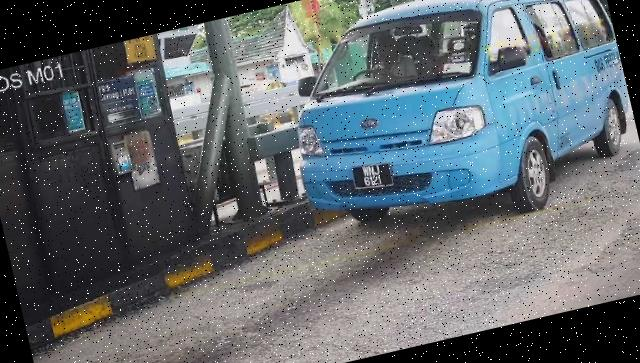License_Plate: (351, 159, 396, 196)
van: (268, 1, 640, 261)
